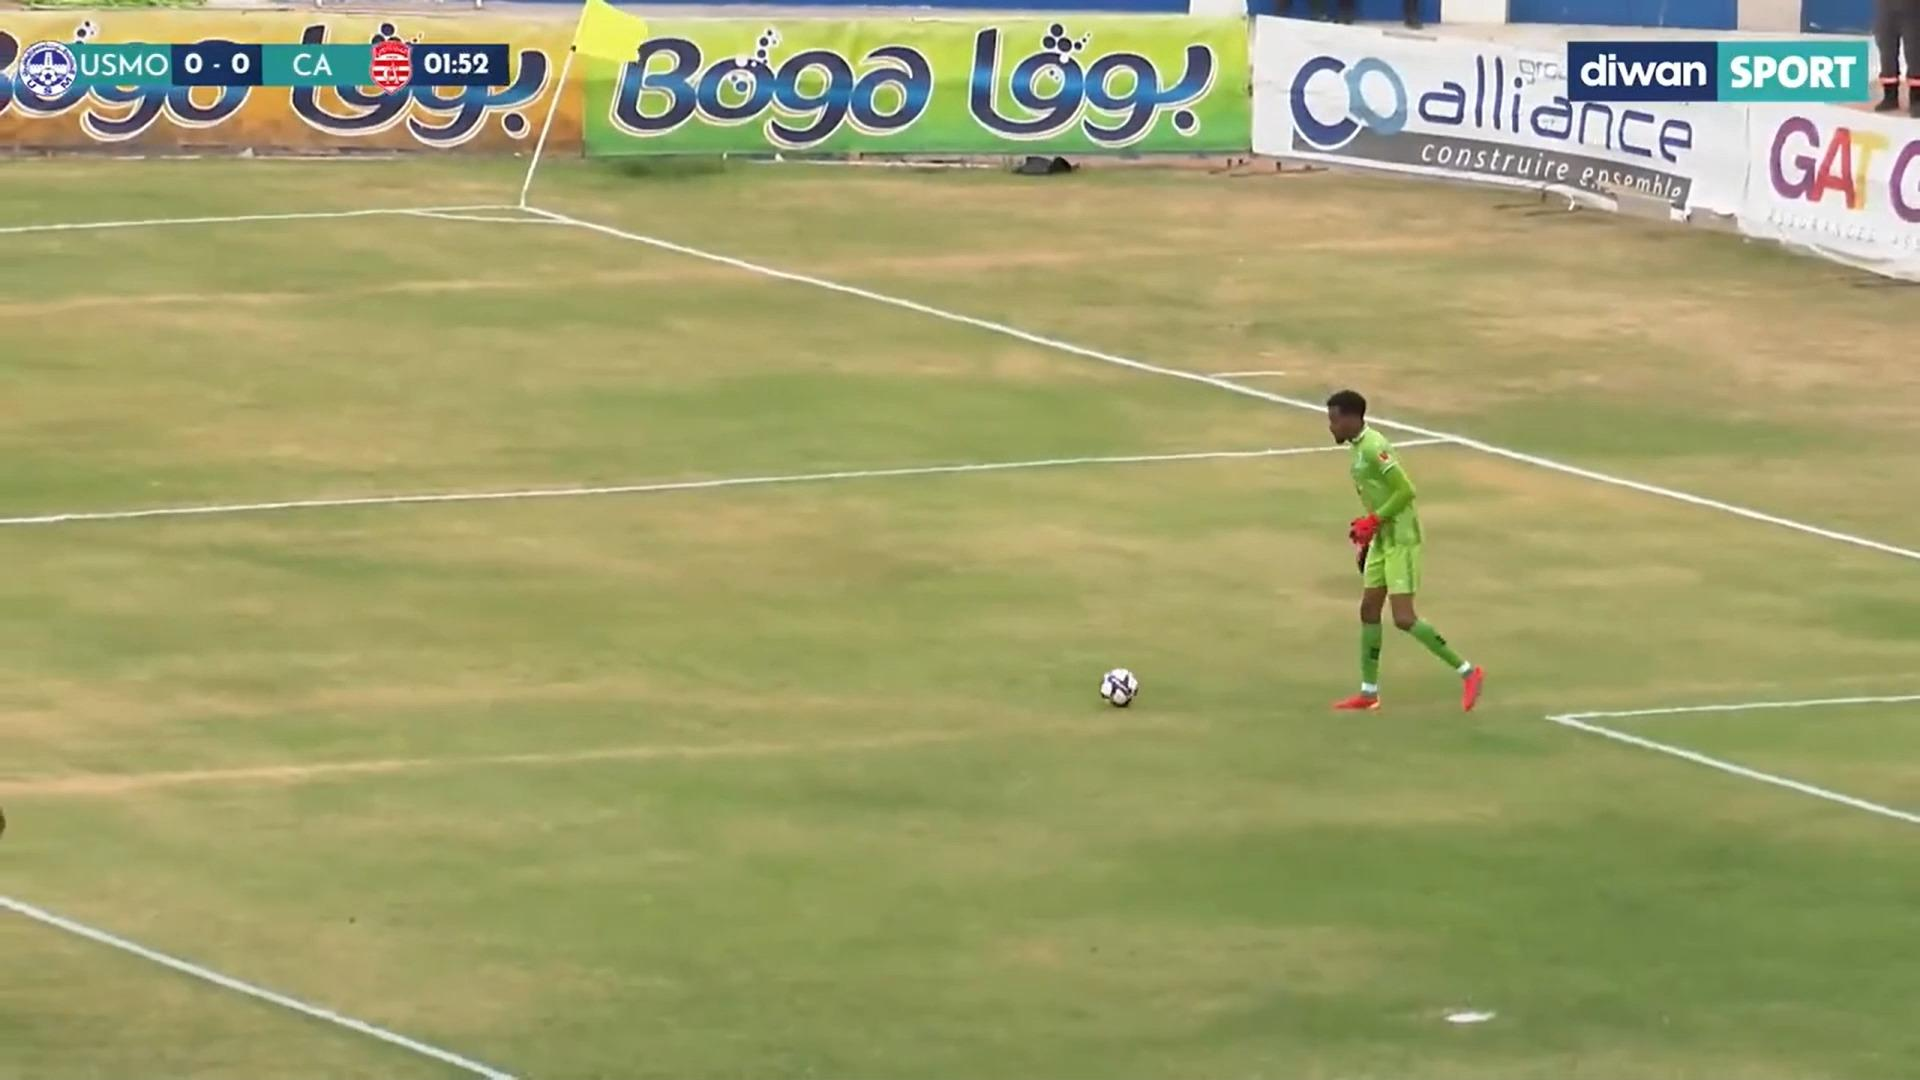ball: (1087, 655, 1153, 717)
goalkeeper: (1288, 377, 1506, 738)
